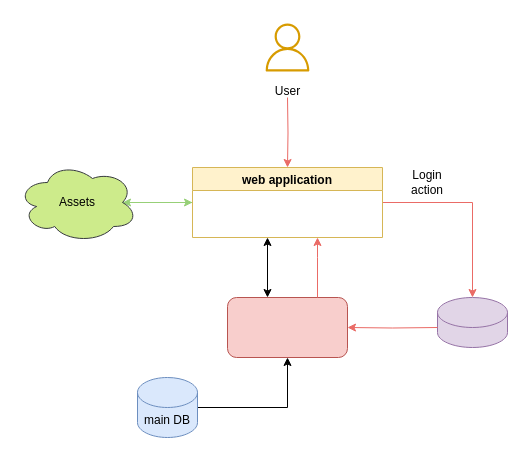
Image size: 525x455. Some labels were removed from this diagram. The box of each missing label's shape, as (x1, y1, x2, y2) in pixels:
application host: (226, 296, 348, 358)
user db: (436, 296, 508, 348)
